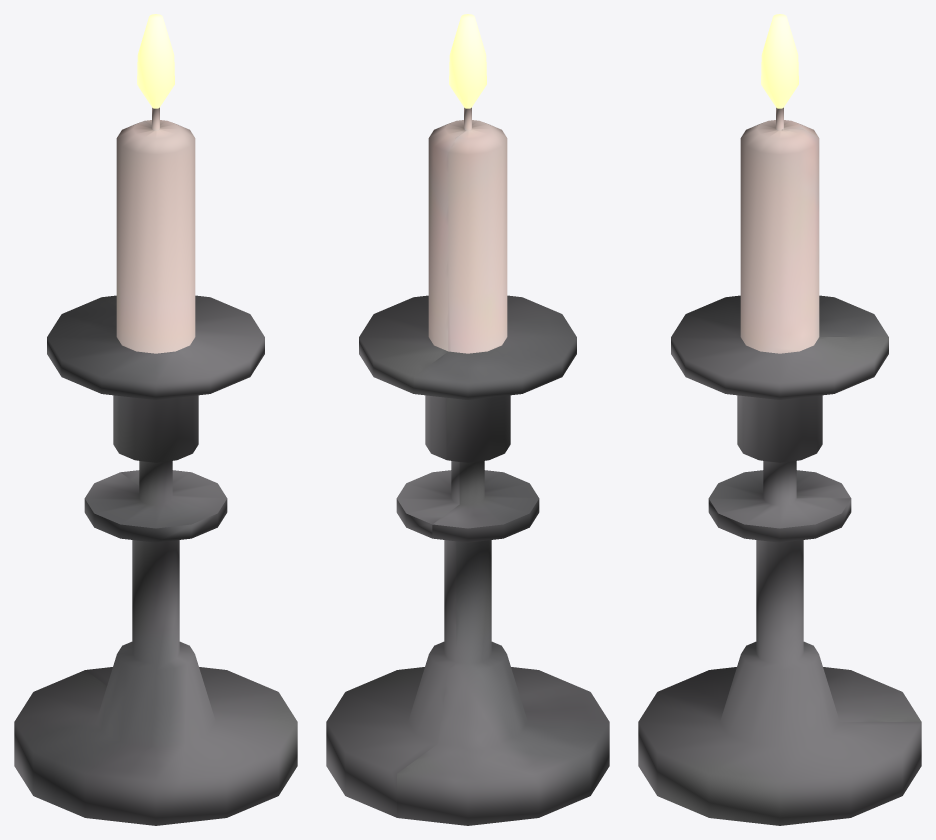
File: candle.glb
3 renders of one model, left to right at view 1: azimuth 30°, elevation 25°; view 2: azimuth 150°, elevation 25°; view 3: azimuth 270°, elevation 25°, orthographic.
Visible parts, largest first — view 1: Cylinder.003; view 2: Cylinder.003; view 3: Cylinder.003.
Part boxes in pixels (left/top/right/bottom): Cylinder.003: left=14, top=14, right=297, bottom=825; Cylinder.003: left=326, top=14, right=609, bottom=825; Cylinder.003: left=638, top=14, right=921, bottom=825.
Bounding box in the file's own units: 0.2063 × 0.6018 × 0.2063.
Materials: 2 (1 with a texture image).
